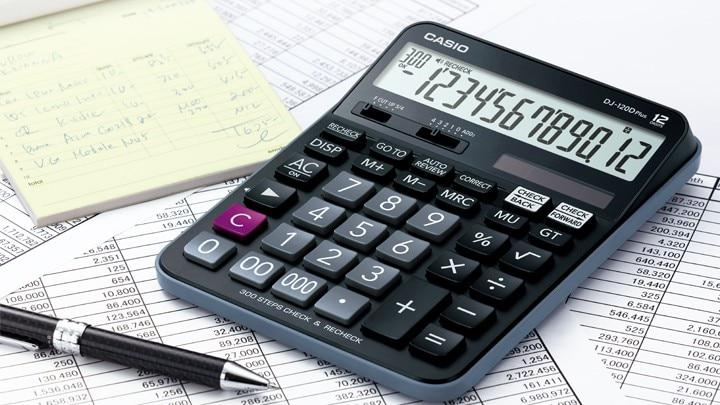Calculator: (138, 7, 710, 405)
